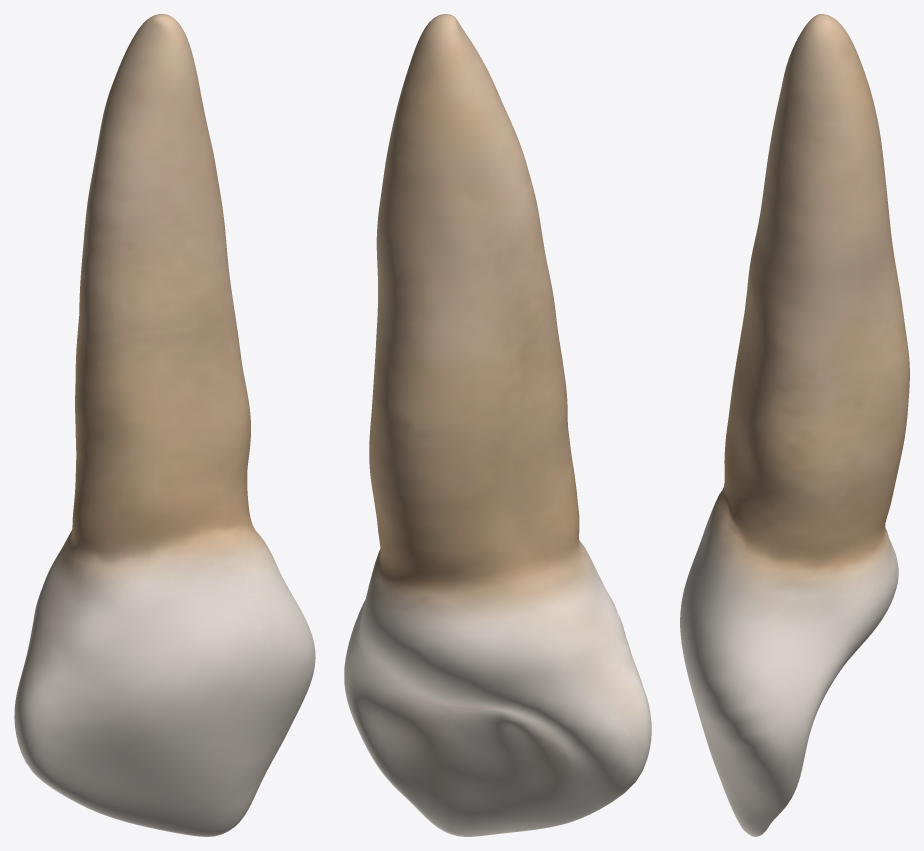
File: primary_upper_left_canine_fdi_63.glb
The picture shows the model from 3 angles, left to right: view 1: azimuth 30°, elevation 25°; view 2: azimuth 150°, elevation 25°; view 3: azimuth 270°, elevation 25°; orthographic projection. The views are drawn at different scales.
Visible parts, largest first — view 1: Object_3; view 2: Object_3; view 3: Object_3.
Part boxes in pixels (left/top/right/bottom): Object_3: left=14, top=14, right=315, bottom=836; Object_3: left=344, top=14, right=651, bottom=836; Object_3: left=680, top=14, right=909, bottom=836.
Size of the model in its own units: 3.88 by 10.49 by 2.71.
Materials: 1 (1 with a texture image).
